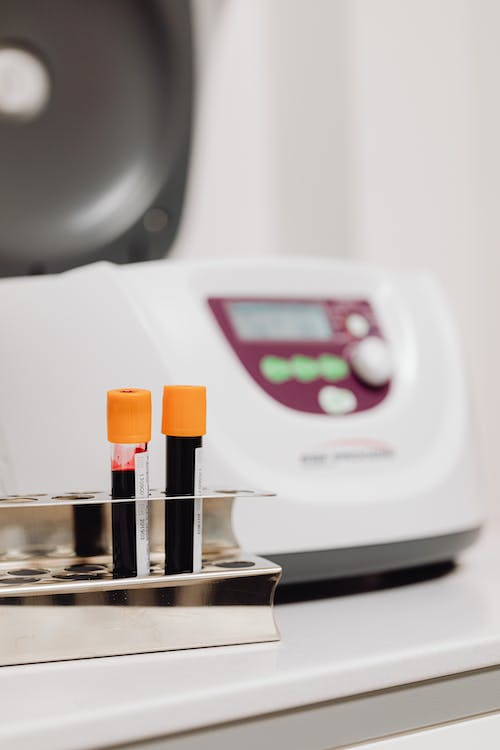blood: (158, 433, 204, 578), (108, 442, 150, 578)
